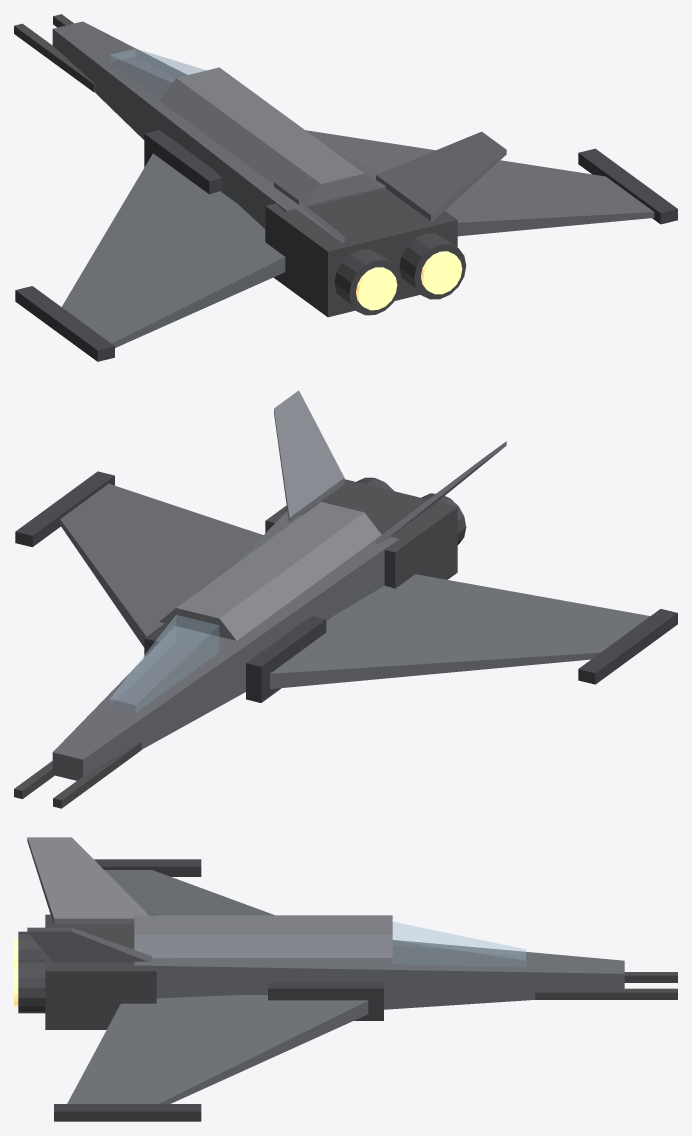
Rendered from ship_XS_FIGHTER.glb.
3 renders of one model, top to bottom at view 1: azimuth 30°, elevation 25°; view 2: azimuth 150°, elevation 25°; view 3: azimuth 270°, elevation 25°, orthographic. The views are drawn at different scales.
Visible parts, largest first — view 1: XS_FIGHTER_Hull-col, XS_FIGHTER_Armor, XS_FIGHTER_Engines, XS_FIGHTER_Trim, XS_FIGHTER_EngineGlow, XS_FIGHTER_Glass-col; view 2: XS_FIGHTER_Hull-col, XS_FIGHTER_Armor, XS_FIGHTER_Engines, XS_FIGHTER_Trim, XS_FIGHTER_Glass-col; view 3: XS_FIGHTER_Hull-col, XS_FIGHTER_Armor, XS_FIGHTER_Engines, XS_FIGHTER_Trim, XS_FIGHTER_Glass-col.
Part boxes in pixels (bbox=[...]): XS_FIGHTER_Hull-col: bbox=[52, 21, 654, 347]; XS_FIGHTER_Armor: bbox=[159, 67, 506, 243]; XS_FIGHTER_Engines: bbox=[14, 14, 466, 317]; XS_FIGHTER_Trim: bbox=[15, 130, 677, 361]; XS_FIGHTER_EngineGlow: bbox=[356, 251, 462, 310]; XS_FIGHTER_Glass-col: bbox=[110, 49, 205, 98]; XS_FIGHTER_Hull-col: bbox=[52, 484, 650, 780]; XS_FIGHTER_Armor: bbox=[159, 390, 506, 640]; XS_FIGHTER_Engines: bbox=[14, 477, 466, 808]; XS_FIGHTER_Trim: bbox=[15, 471, 677, 702]; XS_FIGHTER_Glass-col: bbox=[110, 615, 218, 712]; XS_FIGHTER_Hull-col: bbox=[67, 870, 624, 1103]; XS_FIGHTER_Armor: bbox=[27, 837, 392, 962]; XS_FIGHTER_Engines: bbox=[18, 914, 677, 1029]; XS_FIGHTER_Trim: bbox=[54, 859, 383, 1121]; XS_FIGHTER_Glass-col: bbox=[393, 922, 525, 967].
Bounding box in the file's own units: 13.4 × 2.95 × 14.9.
